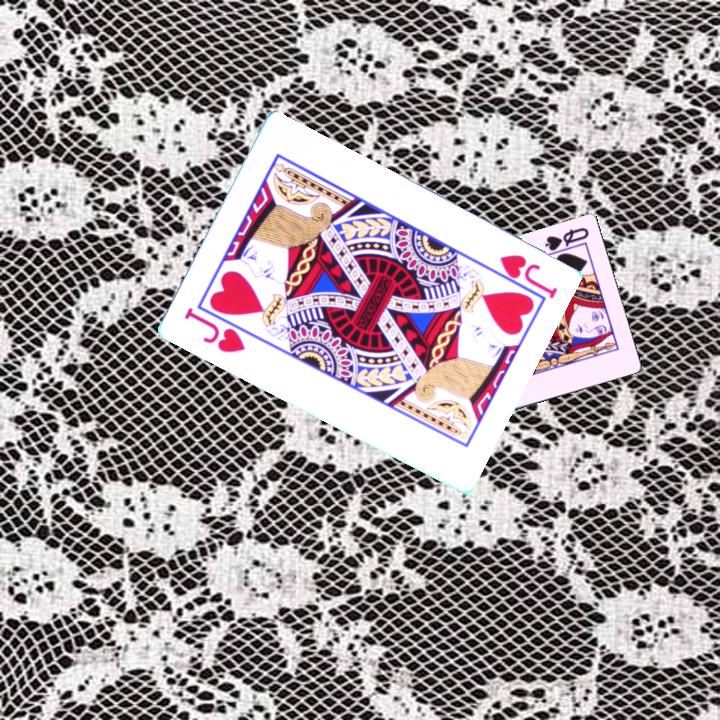Jh: (180, 304, 248, 357), (495, 250, 560, 302)
Qs: (541, 224, 592, 257)
